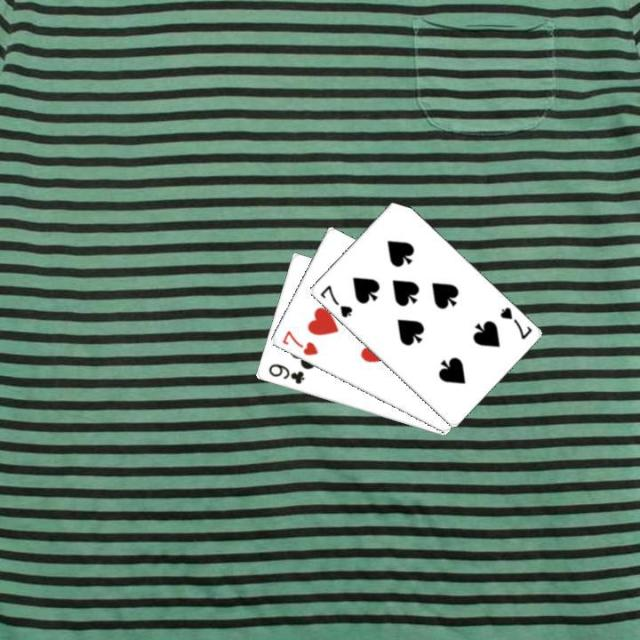7H: (277, 327, 320, 358)
7S: (316, 281, 354, 319), (495, 303, 533, 341)
9C: (264, 360, 307, 386)
